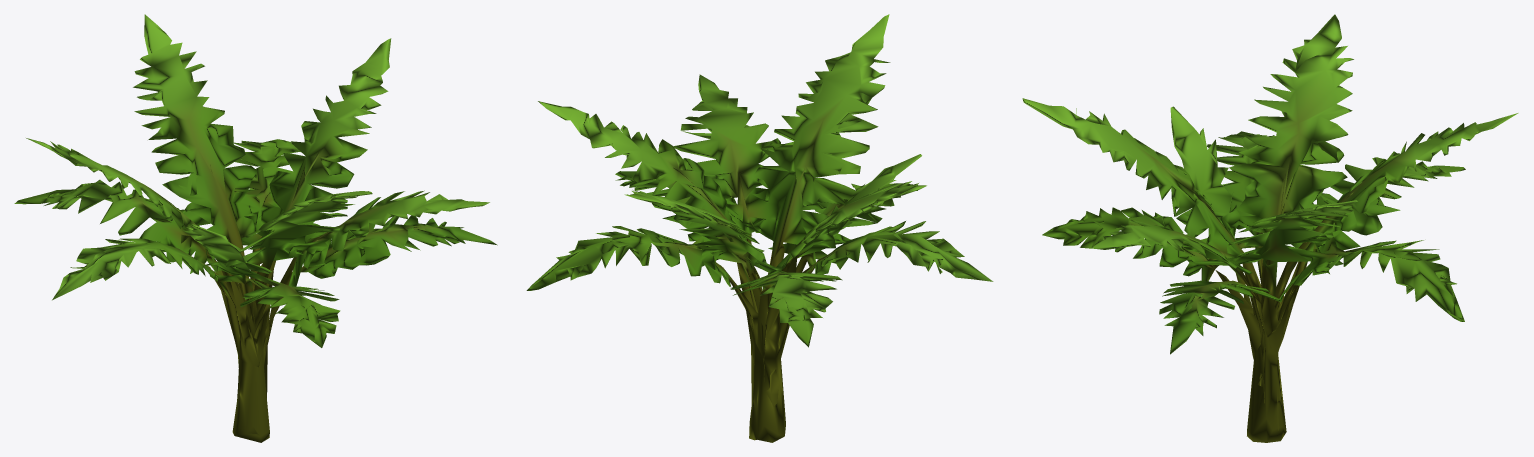
The model's file is gen3d-fern-lod0.glb.
3 views of the same model, side by side, from view 1: azimuth 30°, elevation 25°; view 2: azimuth 150°, elevation 25°; view 3: azimuth 270°, elevation 25° (orthographic).
Visible parts, largest first — view 1: part_0; view 2: part_0; view 3: part_0.
Part boxes in pixels (x1,y1,x2,y2): part_0: (14,14,497,442); part_0: (526,14,993,442); part_0: (1022,14,1518,442).
Size of the model in its own units: 1.29 by 0.9973 by 1.33.
